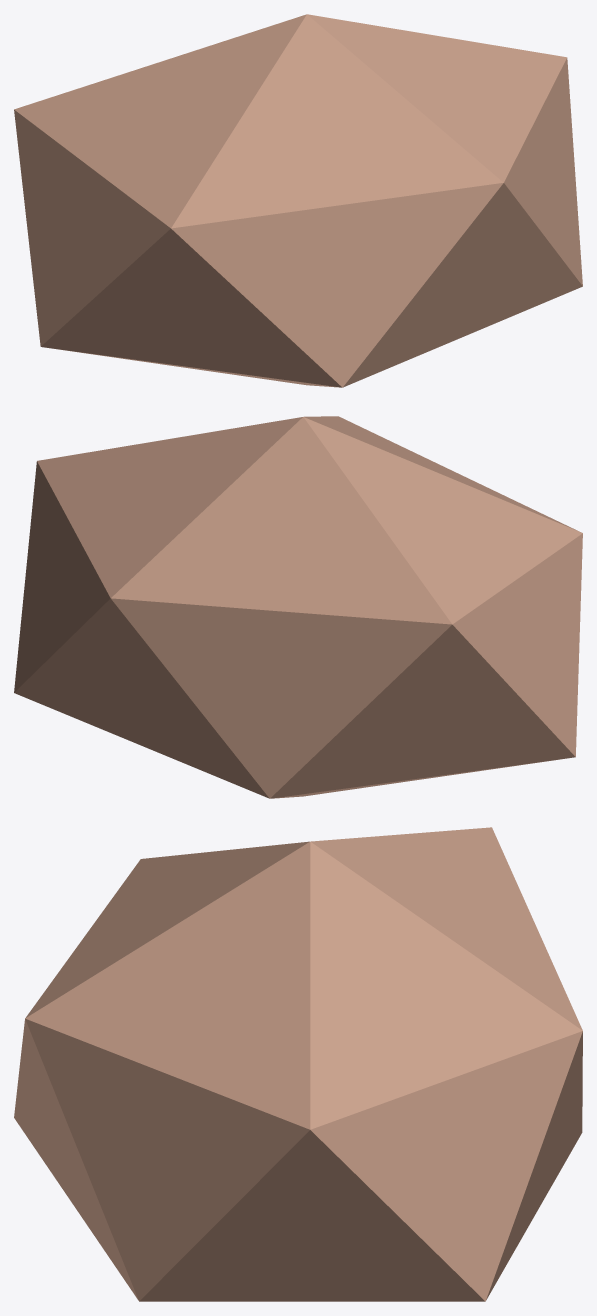
The model's file is prop-clay-lump.fbx.
The picture shows the model from 3 angles, top to bottom: view 1: azimuth 30°, elevation 25°; view 2: azimuth 150°, elevation 25°; view 3: azimuth 270°, elevation 25°; orthographic projection. The views are drawn at different scales.
Visible parts, largest first — view 1: prop-clay-lump; view 2: prop-clay-lump; view 3: prop-clay-lump.
Part boxes in pixels (x1=…): prop-clay-lump: x1=14, y1=14, x2=582, y2=387; prop-clay-lump: x1=14, y1=416, x2=582, y2=798; prop-clay-lump: x1=14, y1=827, x2=582, y2=1301.
Size of the model in its own units: 26.79 by 18.04 by 20.31.
